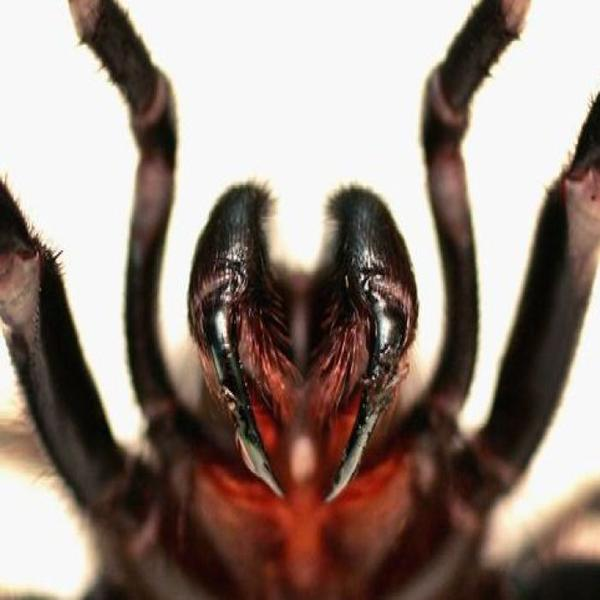Sydney_Funnel_Web_Spider: (4, 3, 599, 600)
